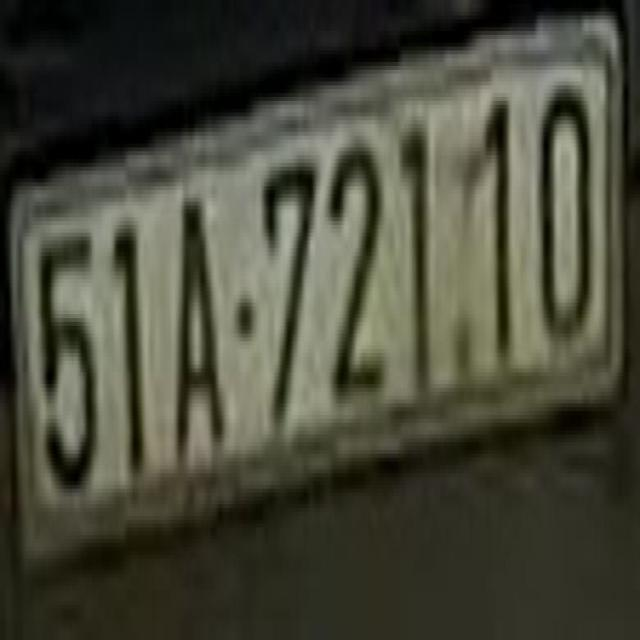0: (538, 70, 588, 361)
1: (396, 108, 438, 388), (112, 205, 148, 492), (480, 82, 517, 349)
2: (328, 112, 383, 384)
5: (37, 232, 96, 492)
7: (264, 147, 314, 427)
A: (174, 198, 220, 465)
